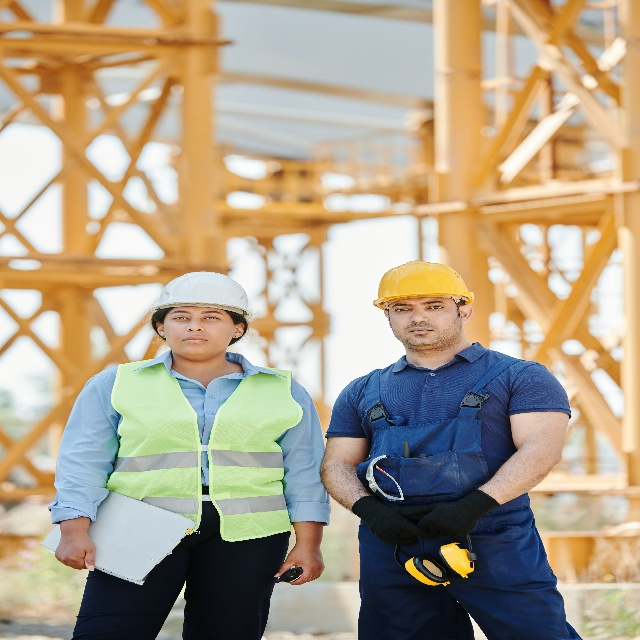Gafas: (365, 450, 401, 498)
Guantes: (401, 490, 496, 537), (356, 491, 423, 547)
Sin_guantes: (274, 539, 325, 580), (56, 531, 96, 573)
